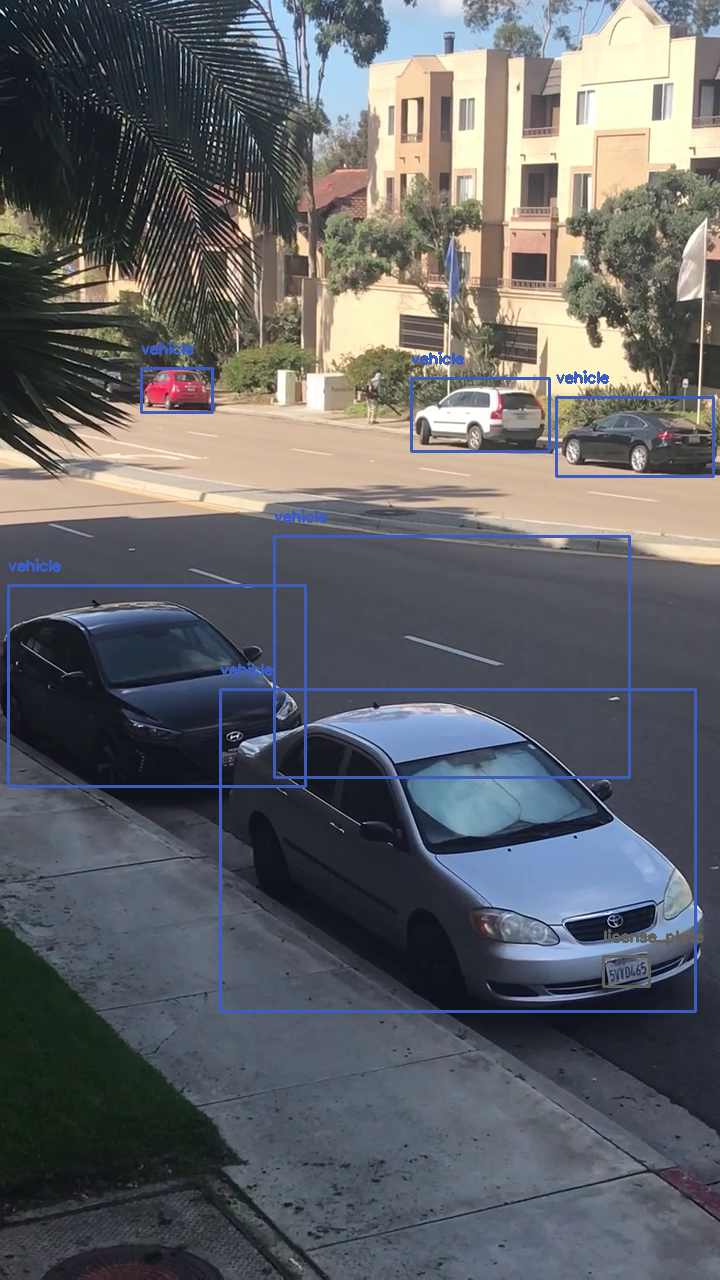license_plate: (603, 956, 649, 986)
vehicle: (220, 689, 695, 1011), (274, 536, 629, 777), (8, 585, 305, 786), (556, 397, 713, 476), (411, 378, 549, 451), (141, 368, 212, 412)
